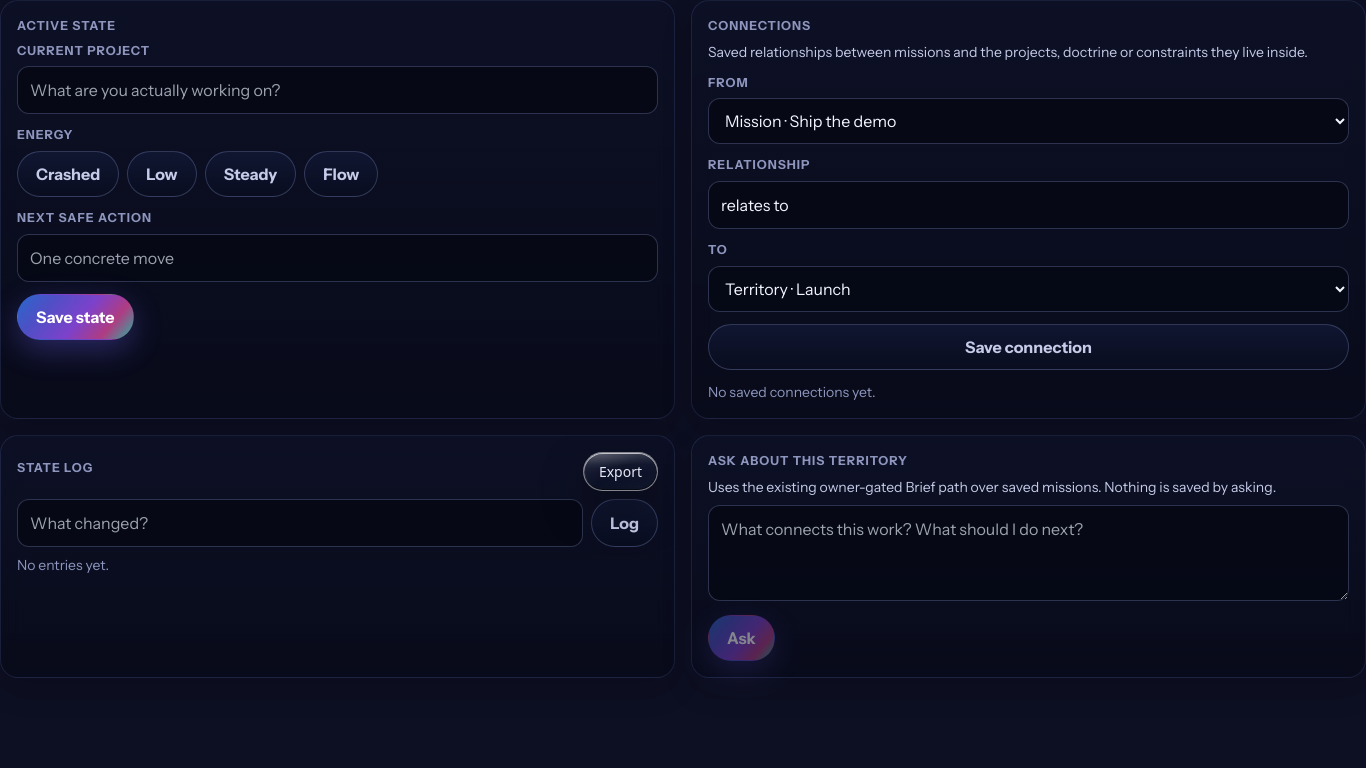
it: TerritoryWorkspacePanel › renders the real active state and saves it without inventing data
Expected: the text "Active state" is shown, [17,18,116,33]
Expected: the text "Connections" is shown, [708,18,811,33]
Type "Launch" into the field labelled "Current project" at x=338, y=90, box [17,66,658,114]
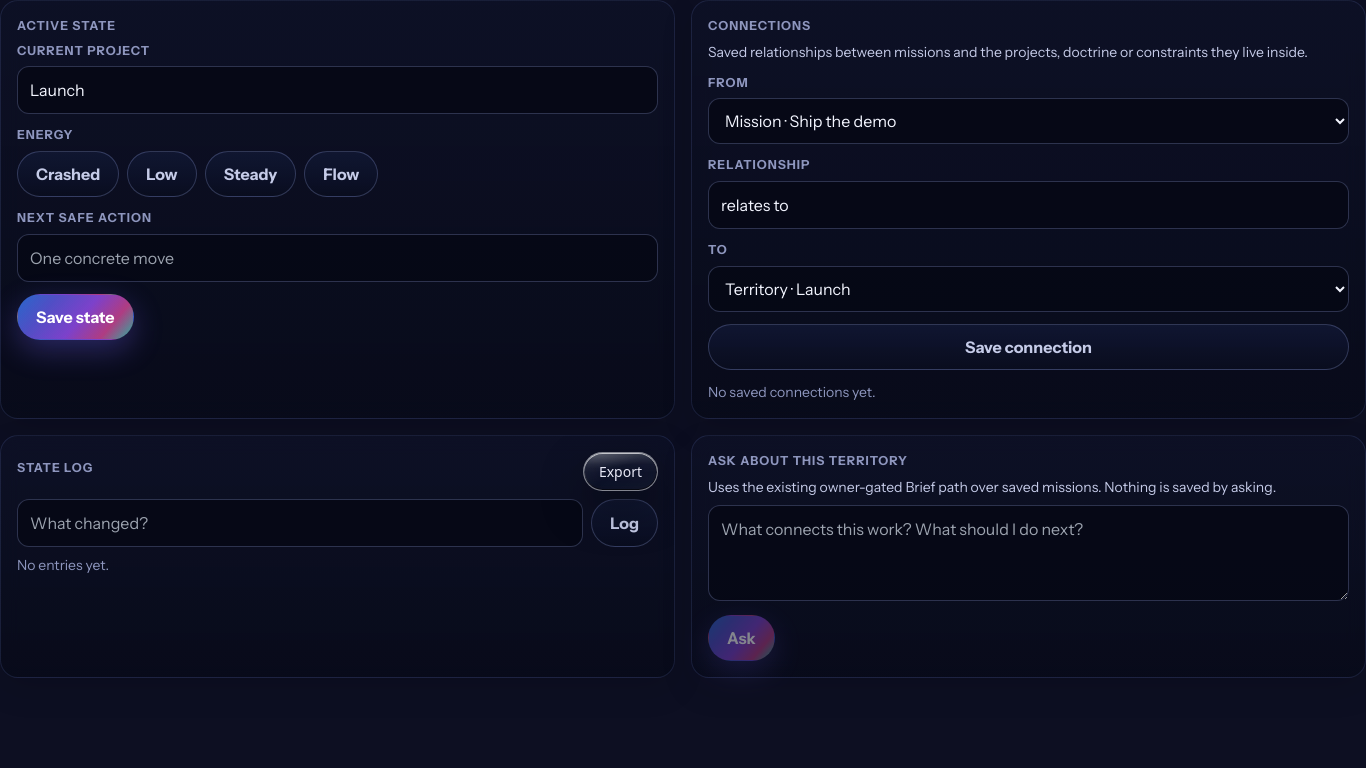
Click the button "Save state" at x=75, y=317, box [17,294,134,340]
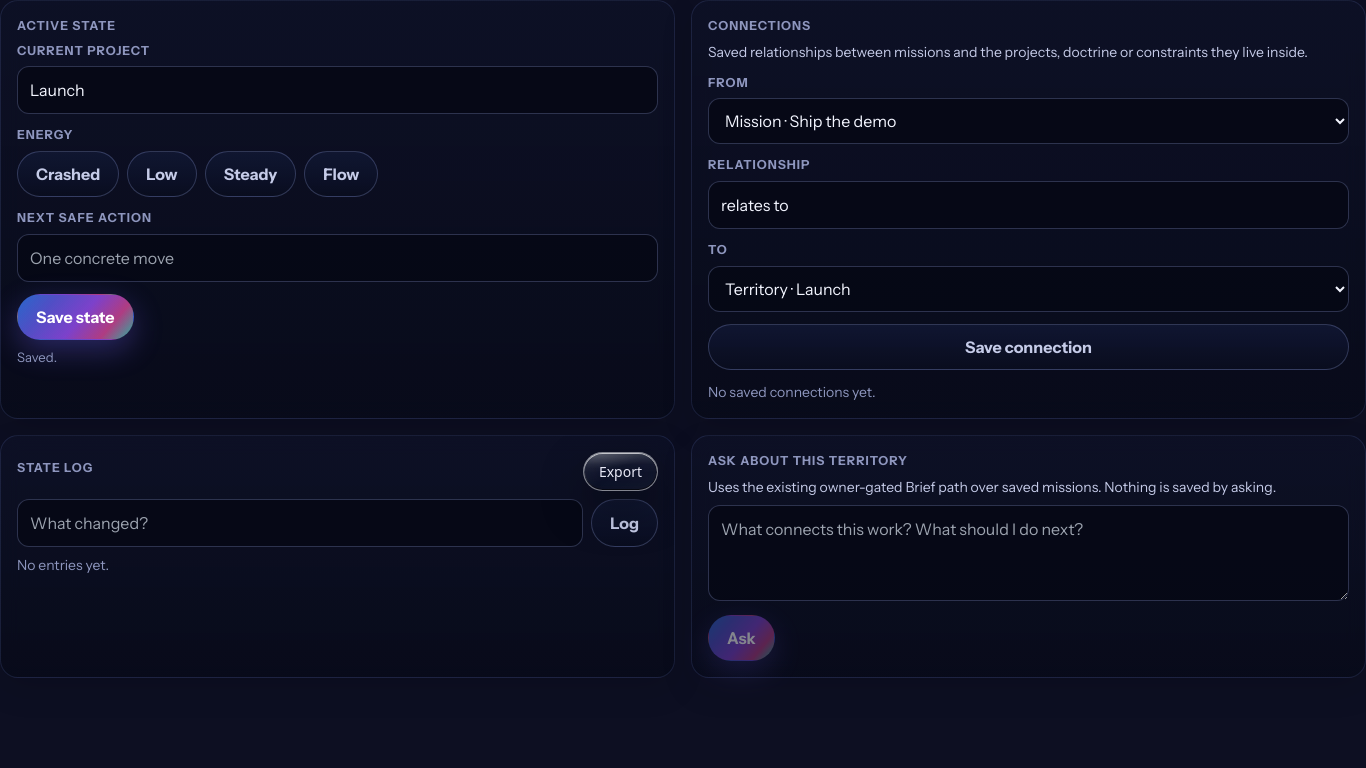
Expected: the text "Saved." is shown, [17,349,57,365]
